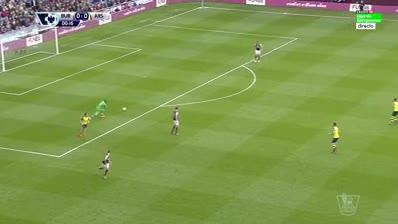futbol: (120, 105, 129, 113)
player: (328, 119, 343, 156), (98, 149, 113, 182), (169, 105, 183, 138), (77, 111, 92, 140), (91, 99, 111, 120), (253, 40, 265, 65), (388, 97, 397, 129)
